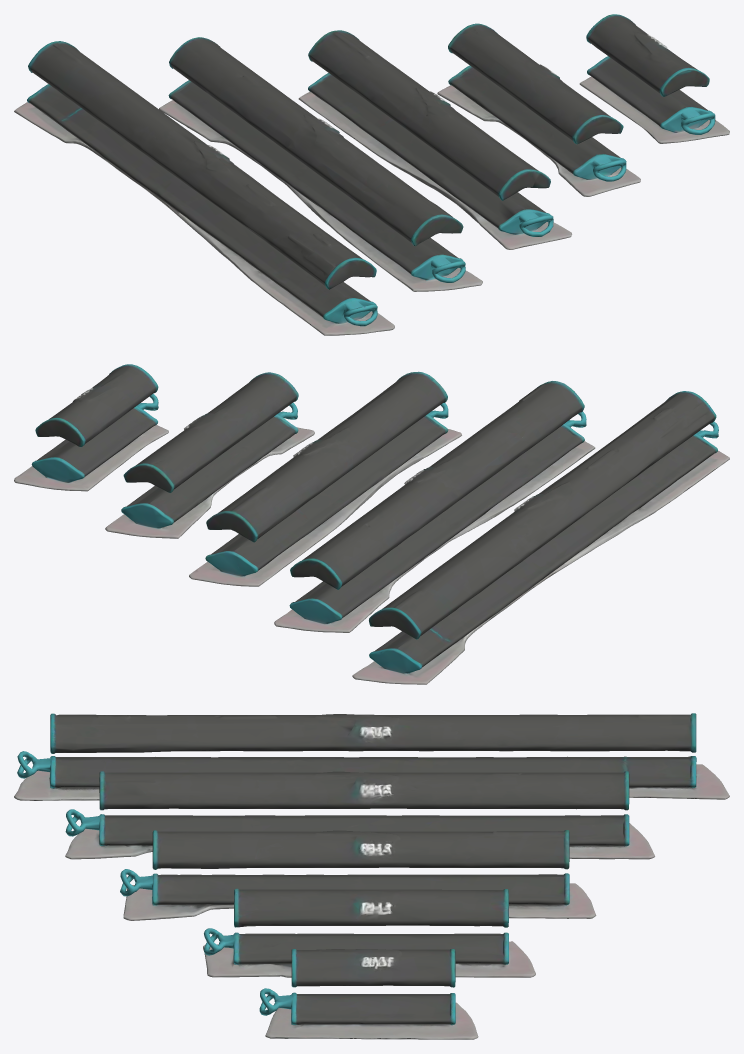
The model's file is drywall-skimming-scraper.glb.
The picture shows the model from 3 angles, top to bottom: view 1: azimuth 30°, elevation 25°; view 2: azimuth 150°, elevation 25°; view 3: azimuth 270°, elevation 25°; orthographic projection. The views are drawn at different scales.
Parts seen in each view (by area): view 1: tripo_node_9a3f44a5-275a-40a7-b9e9-8dc6ace5aee8; view 2: tripo_node_9a3f44a5-275a-40a7-b9e9-8dc6ace5aee8; view 3: tripo_node_9a3f44a5-275a-40a7-b9e9-8dc6ace5aee8.
Part boxes in pixels (left/top/right/bottom): tripo_node_9a3f44a5-275a-40a7-b9e9-8dc6ace5aee8: left=14, top=14, right=729, bottom=335; tripo_node_9a3f44a5-275a-40a7-b9e9-8dc6ace5aee8: left=14, top=364, right=729, bottom=684; tripo_node_9a3f44a5-275a-40a7-b9e9-8dc6ace5aee8: left=14, top=713, right=729, bottom=1039.
Bounding box in the file's own units: 0.9069 × 0.1082 × 1.
1 material, 1 textured.
